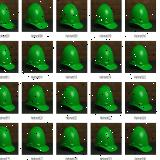Helmet: (94, 2, 118, 30), (24, 2, 48, 29), (25, 44, 49, 71), (94, 85, 118, 112), (129, 2, 152, 30), (60, 3, 84, 29), (60, 44, 84, 70), (94, 44, 118, 70), (128, 85, 152, 111), (128, 44, 152, 70), (94, 126, 118, 152), (26, 125, 49, 152), (129, 125, 152, 152), (26, 85, 49, 111), (60, 85, 83, 111), (61, 126, 84, 152), (0, 3, 15, 30), (0, 85, 15, 112), (0, 44, 15, 70), (0, 126, 15, 152)
